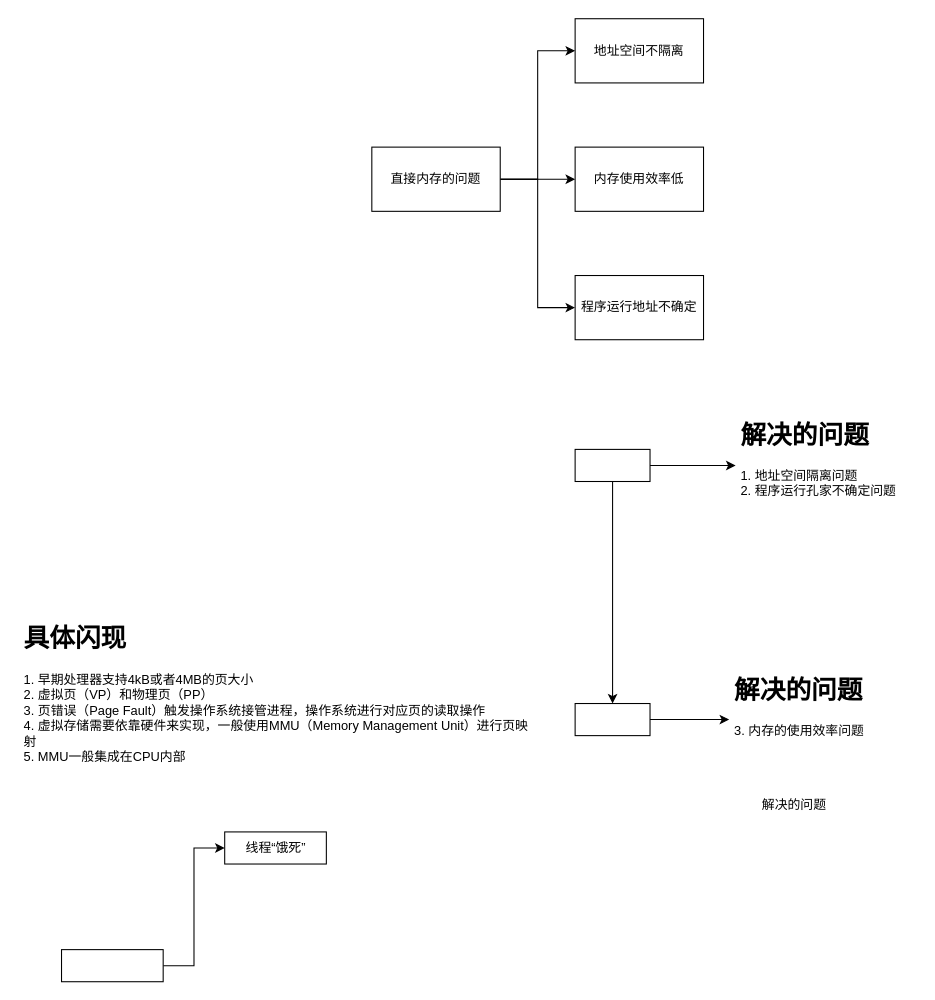
Image size: 935x1000. Some labels were removed from this diagram. Each missing label, with the centre of its shape:
"分段" goes at (612,465).
"分页" goes at (612,719).
"线程" goes at (111,965).
